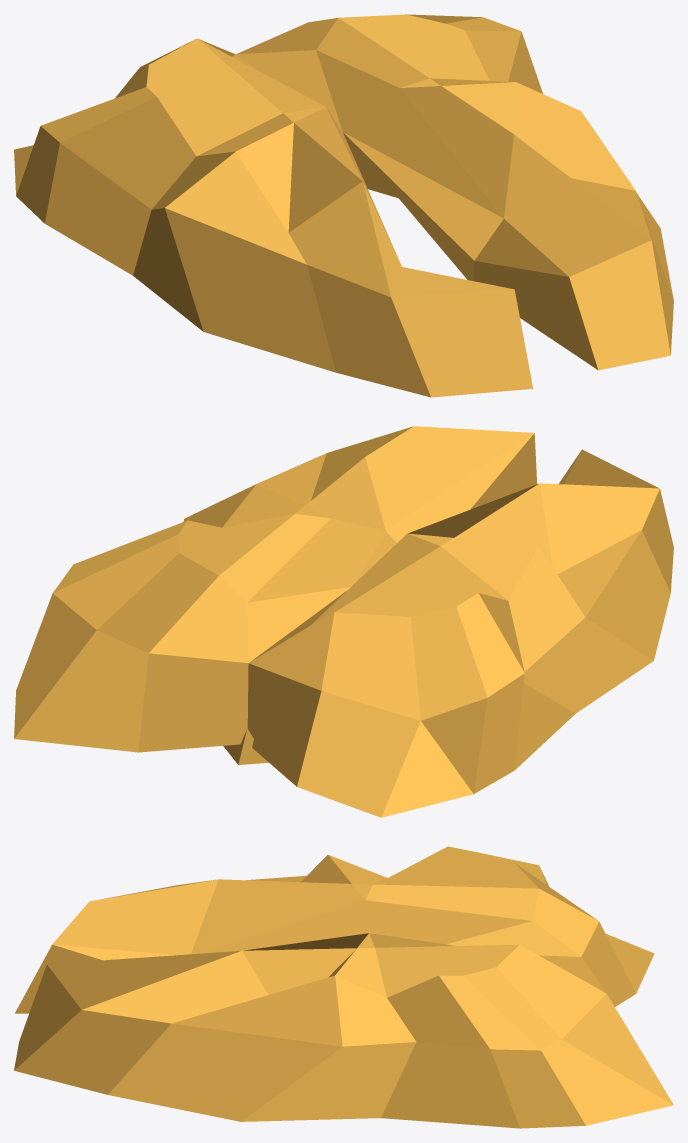
The model's file is walnut03.obj.
3 renders of one model, top to bottom at view 1: azimuth 30°, elevation 25°; view 2: azimuth 150°, elevation 25°; view 3: azimuth 270°, elevation 25°, orthographic. The views are drawn at different scales.
Visible parts, largest first — view 1: Cylinder.001; view 2: Cylinder.001; view 3: Cylinder.001.
Part boxes in pixels (x1,y1,x2,y2): Cylinder.001: (14, 14, 673, 397); Cylinder.001: (14, 426, 673, 817); Cylinder.001: (14, 846, 673, 1128).
Size of the model in its own units: 0.021 by 0.00642 by 0.0297.
Materials: 1 (1 with a texture image).
